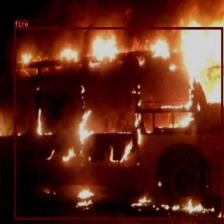fire: (14, 27, 223, 219)
